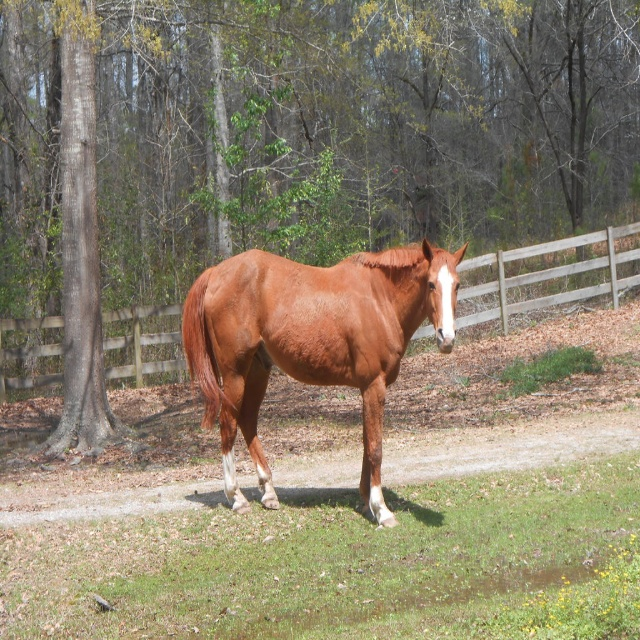Horse: (181, 235, 468, 529)
